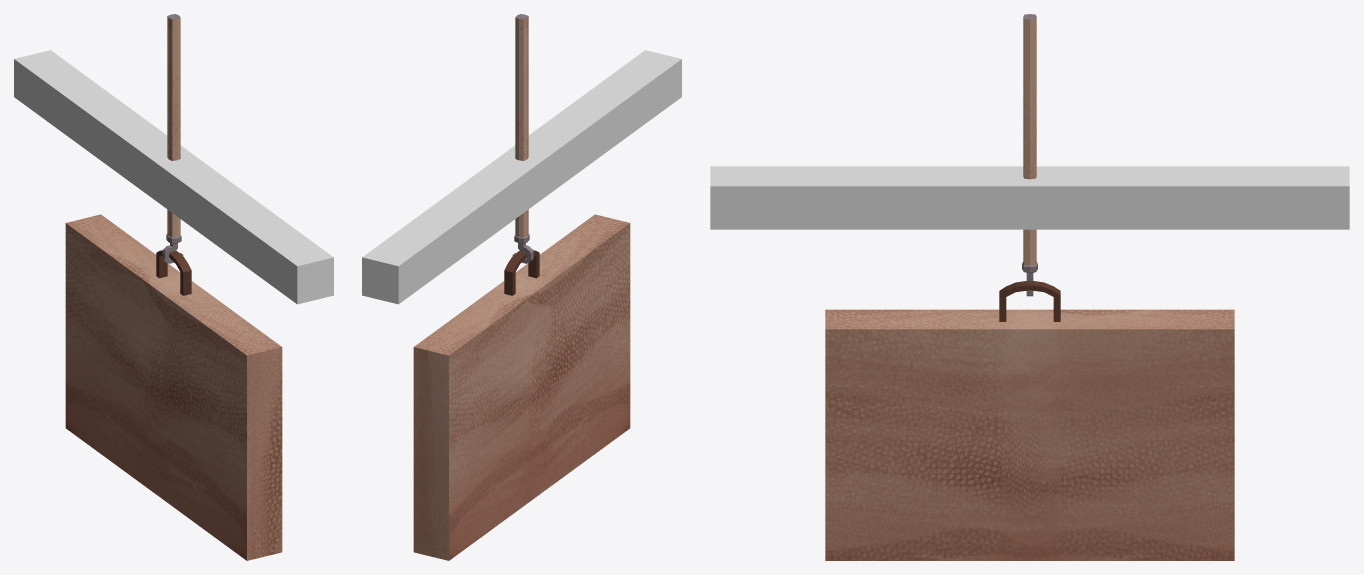
File: Zone1 puzzleWall.fbx
3 renders of one model, left to right at view 1: azimuth 30°, elevation 25°; view 2: azimuth 150°, elevation 25°; view 3: azimuth 270°, elevation 25°, orthographic. The views are drawn at different scales.
Visible parts, largest first — view 1: wall, beam, ropeAndHook; view 2: wall, beam, ropeAndHook; view 3: wall, beam, ropeAndHook.
Part boxes in pixels (bbox=[...]): wall: bbox=[65, 214, 282, 560]; beam: bbox=[14, 50, 333, 304]; ropeAndHook: bbox=[162, 14, 183, 263]; wall: bbox=[413, 214, 630, 560]; beam: bbox=[362, 50, 681, 304]; ropeAndHook: bbox=[512, 14, 533, 263]; wall: bbox=[825, 281, 1234, 560]; beam: bbox=[710, 166, 1349, 229]; ropeAndHook: bbox=[1022, 14, 1037, 296].
Bounding box in the file's own units: 37.2 × 461 × 500.
Materials: 3 (3 with a texture image).
